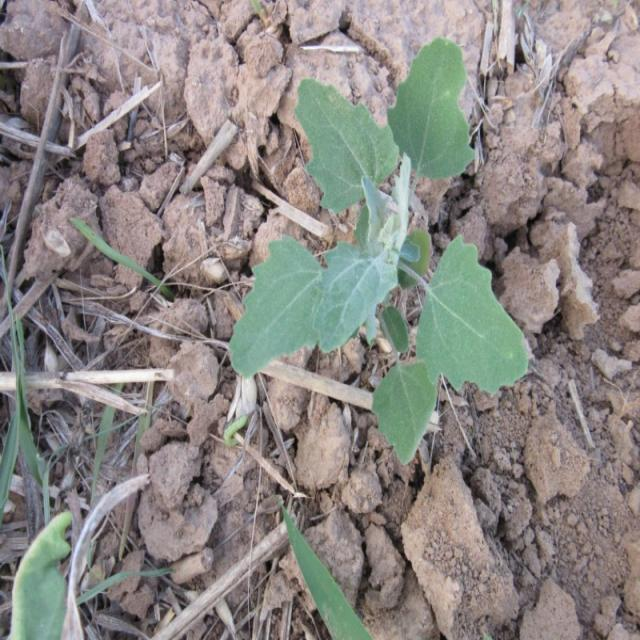ca: (231, 38, 531, 464)
